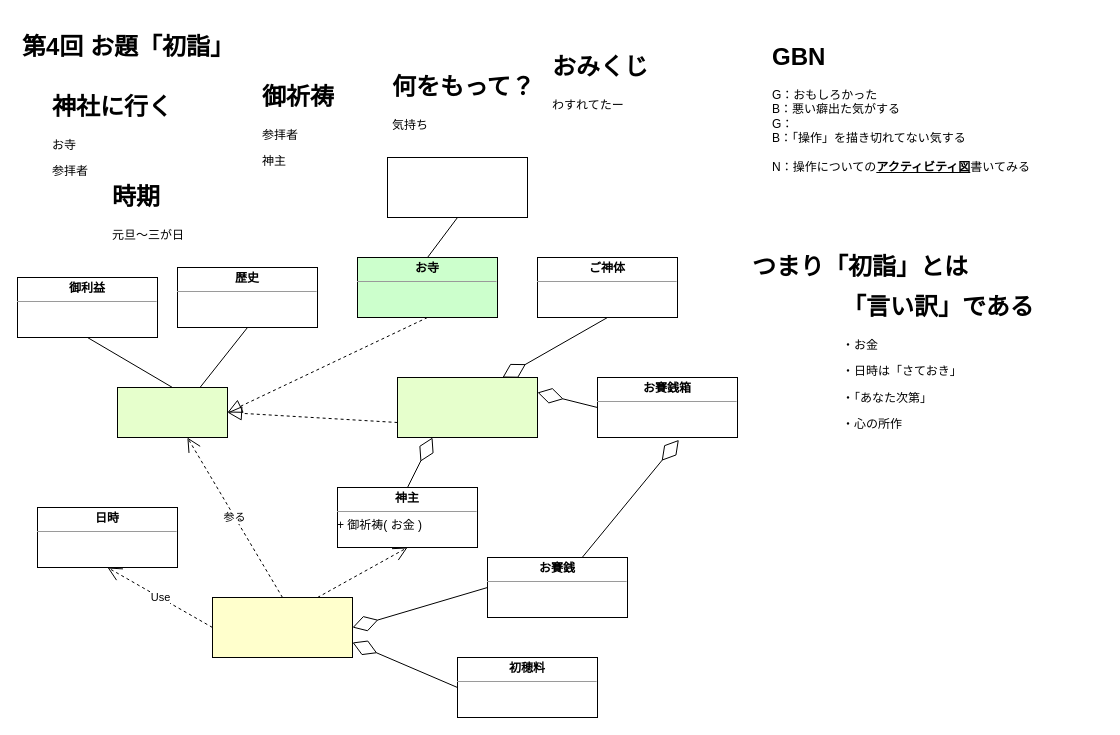
Image size: 1120x735. Some labels were removed from this diagram. The shapes that lost their labels are listed below. From the top down, each one's centre as x and y in pixels, then its label:
the point at 457,187: 宗派
the point at 172,412: «interface» 信仰
the point at 467,407: 神社
the point at 282,627: 参拝者 + 参る( 日時, お金 ) : 御利益
